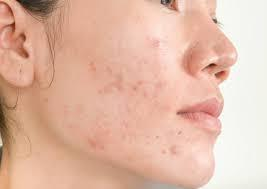Oily-Skin: (146, 32, 166, 52)
acne marks: (79, 51, 184, 157)
